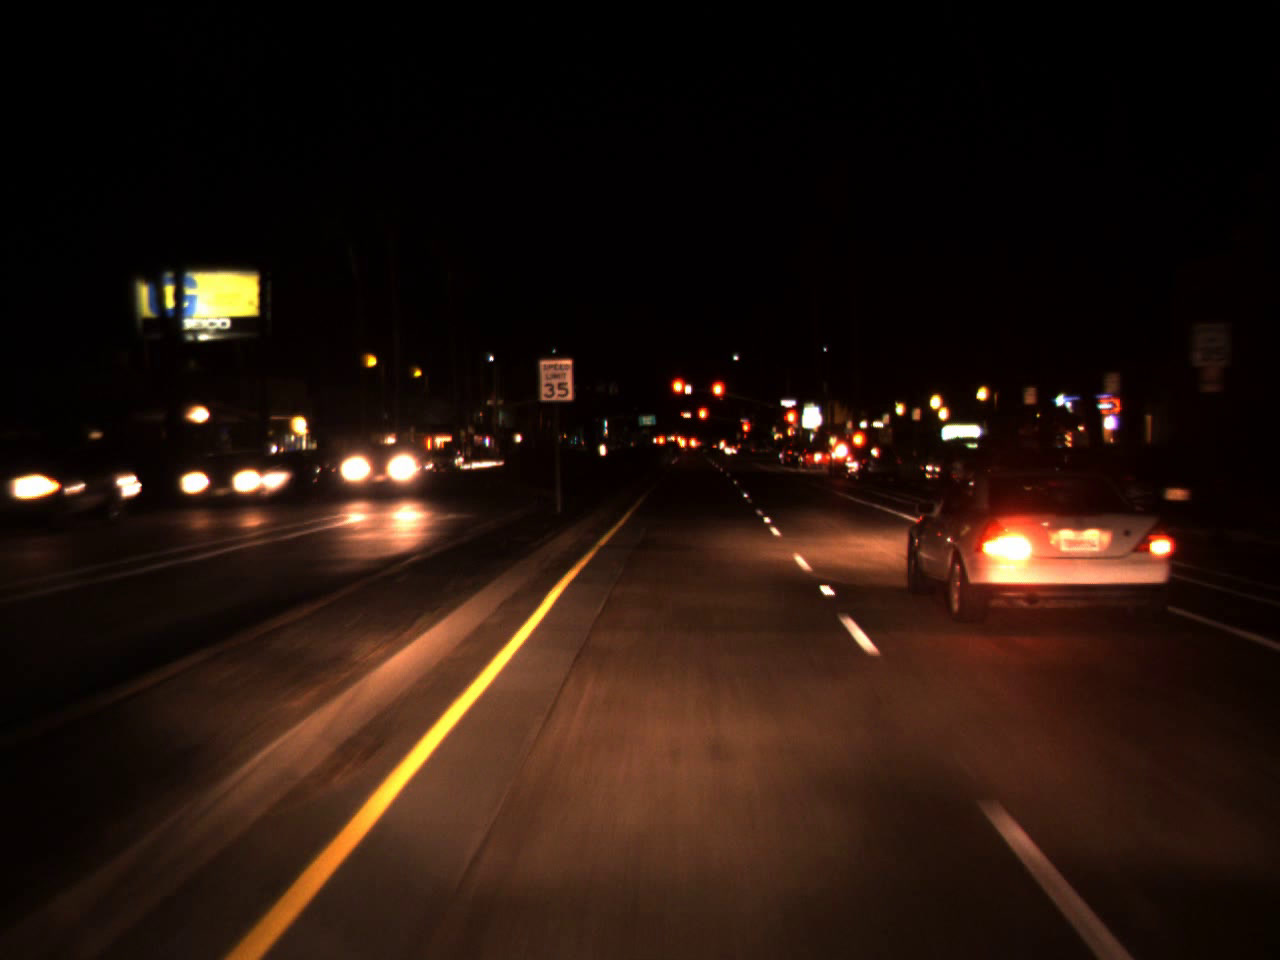stop: (697, 406, 707, 430), (674, 381, 683, 402), (713, 384, 722, 405), (786, 412, 795, 430), (742, 423, 748, 436)
